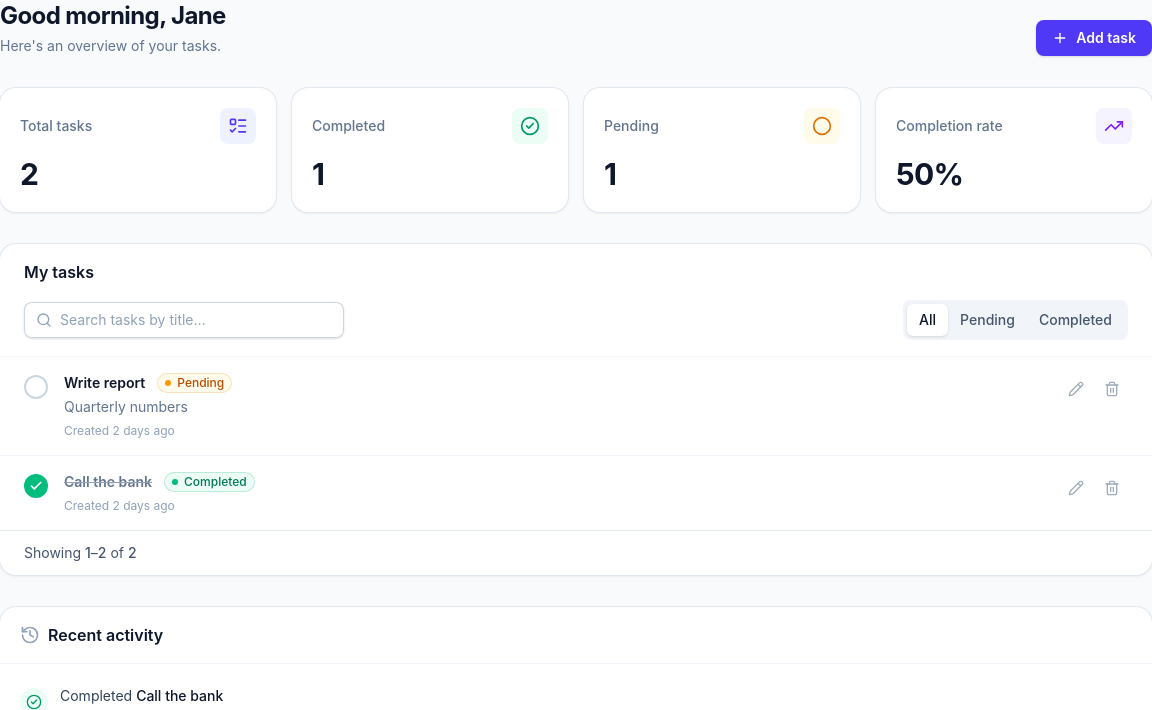
DashboardPage › deletes the task after confirmation
The image size is (1152, 710).
Click the button named "Delete “Write report”".
click(1112, 389)  # box [1096,373,1128,405]
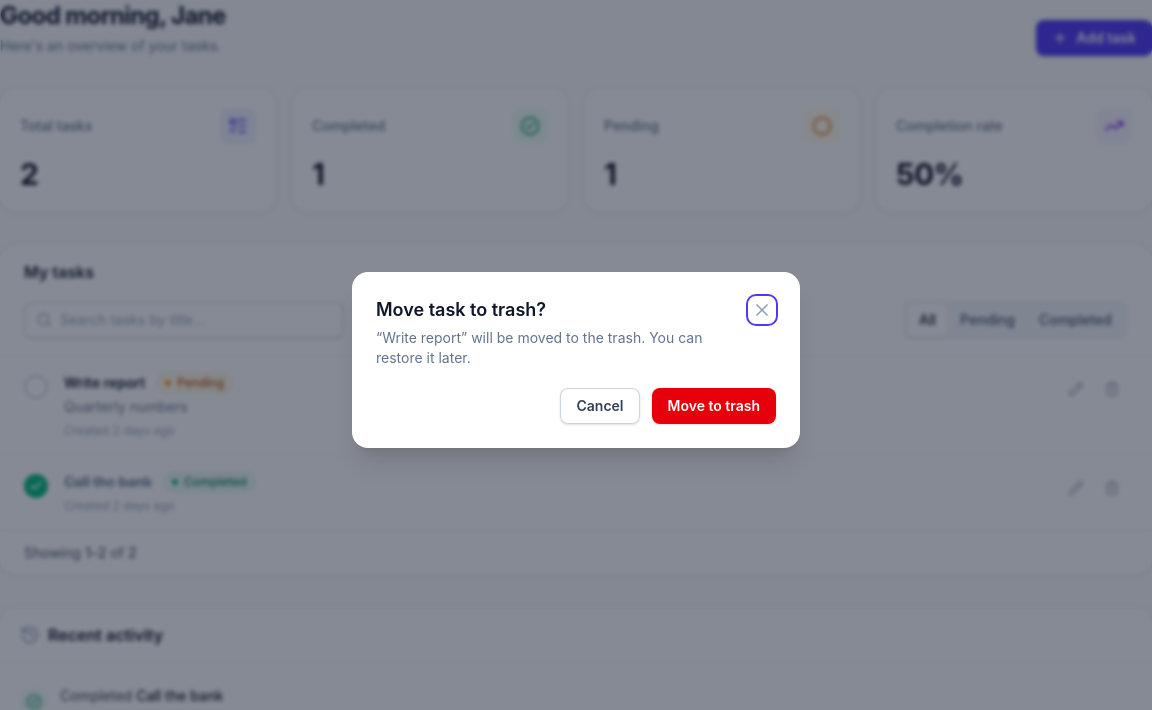
Click the button "Move to trash".
click(714, 406)  # box [652,388,776,424]
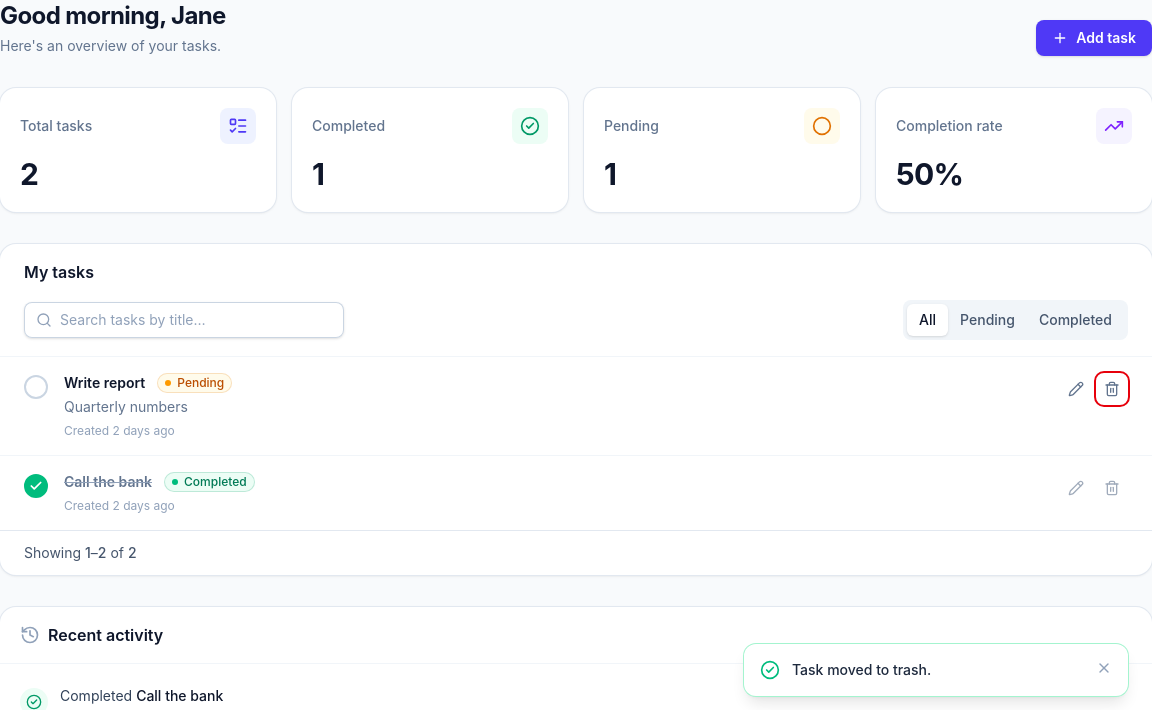
Result: the text "Task moved to trash." is shown at [792,661,931,678]
Result: the dialog is gone
